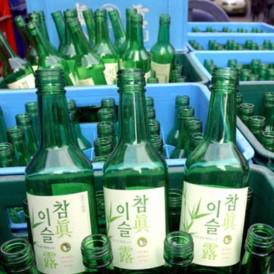soju: (19, 67, 252, 273)
